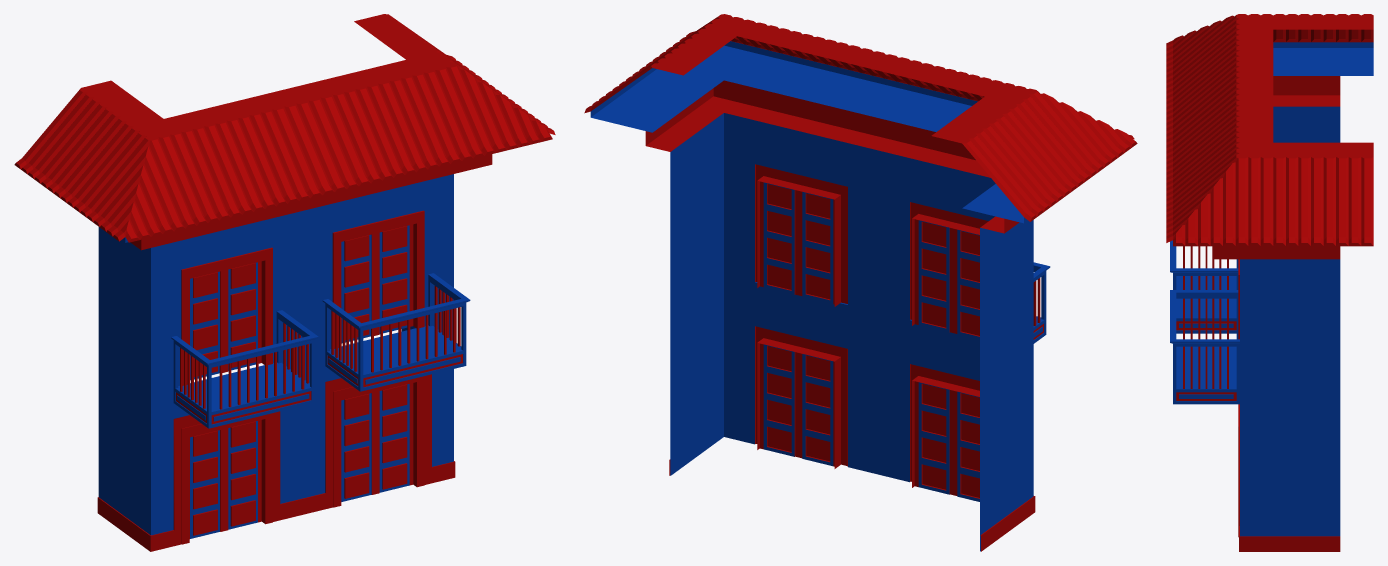
Rendered from House02.fbx.
The picture shows the model from 3 angles, left to right: view 1: azimuth 30°, elevation 25°; view 2: azimuth 150°, elevation 25°; view 3: azimuth 270°, elevation 25°; orthographic projection. The views are drawn at different scales.
Parts seen in each view (by area): view 1: RoofCorner3, Roof3M7, Roof3M6, Balcony04, Balcony03, Roof3M9, BigDoor04, BigDoor03, RoofCorner4, Wall2M12, Roof2M2, WallCorner8 (+21 smaller); view 2: Wall2M7, Wall2M12, Roof3M9, WallCorner6, WallCorner7, BigDoor04, BigDoor06, WallFrameDoor08, WallFrameDoor06, BigDoor05, BigDoor03, Roof3M7 (+19 smaller); view 3: Roof3M8, Wall2M10, Wall2M9, RoofCorner4, Roof3M9, Balcony04, WallCorner7, WallCorner6, Roof3M6, Roof3M7, Balcony03, Roof2M2 (+7 smaller).
Boxes of the visible parts, x1,y1,x2,y2 form: RoofCorner3: (67,119,219,242); Roof3M7: (316,60,461,183); Roof3M6: (164,97,310,220); Balcony04: (322,273,470,391); Balcony03: (171,310,318,428); Roof3M9: (14,80,163,202); BigDoor04: (341,383,413,501); BigDoor03: (189,420,261,538); RoofCorner4: (406,52,555,161); Wall2M12: (272,203,332,362); Roof2M2: (255,82,370,198); WallCorner8: (133,240,181,392); Wall2M7: (848,305,909,482); Wall2M12: (848,143,909,319); Roof3M9: (931,97,1083,223); WallCorner6: (706,275,754,449); WallCorner7: (706,113,754,287); BigDoor04: (760,343,834,466); BigDoor06: (760,181,834,304); WallFrameDoor08: (755,120,847,306); WallFrameDoor06: (755,282,847,468); BigDoor05: (914,219,979,339); BigDoor03: (914,381,979,501); Roof3M7: (737,22,883,110); Roof3M8: (1273,142,1373,246); Wall2M10: (1273,259,1340,399); Wall2M9: (1273,399,1340,536); RoofCorner4: (1166,142,1273,246); Roof3M9: (1273,14,1373,75); Balcony04: (1170,290,1239,404); WallCorner7: (1240,259,1273,399); WallCorner6: (1240,399,1273,536); Roof3M6: (1166,29,1273,127); Roof3M7: (1166,100,1273,198); Balcony03: (1170,240,1238,333); Roof2M2: (1166,72,1273,156).
Bounding box in the file's own units: 1440 × 1300 × 620.
